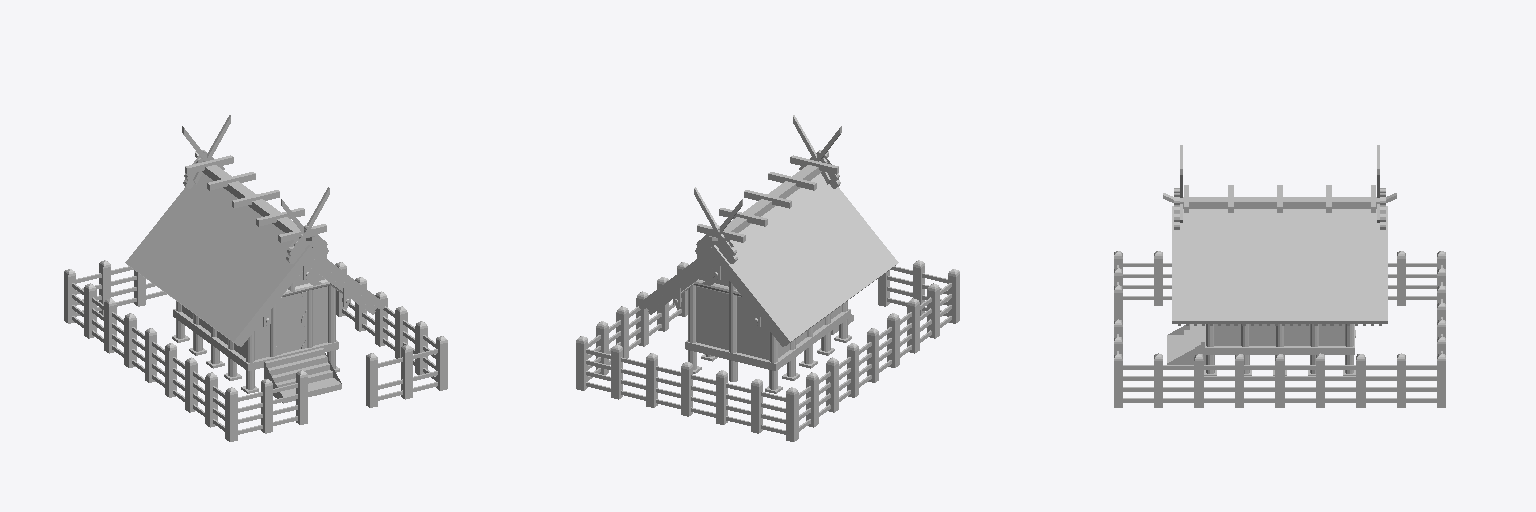
The model's file is syt00.obj.
3 renders of one model, left to right at view 1: azimuth 30°, elevation 25°; view 2: azimuth 150°, elevation 25°; view 3: azimuth 270°, elevation 25°, orthographic.
Visible parts, largest first — view 1: syt00; view 2: syt00; view 3: syt00.
Boxes of the visible parts, <box> form: syt00: <box>64,115,447,441</box>; syt00: <box>576,115,959,441</box>; syt00: <box>1114,145,1445,407</box>.
Bounding box in the file's own units: 9.26 × 8.03 × 12.23.